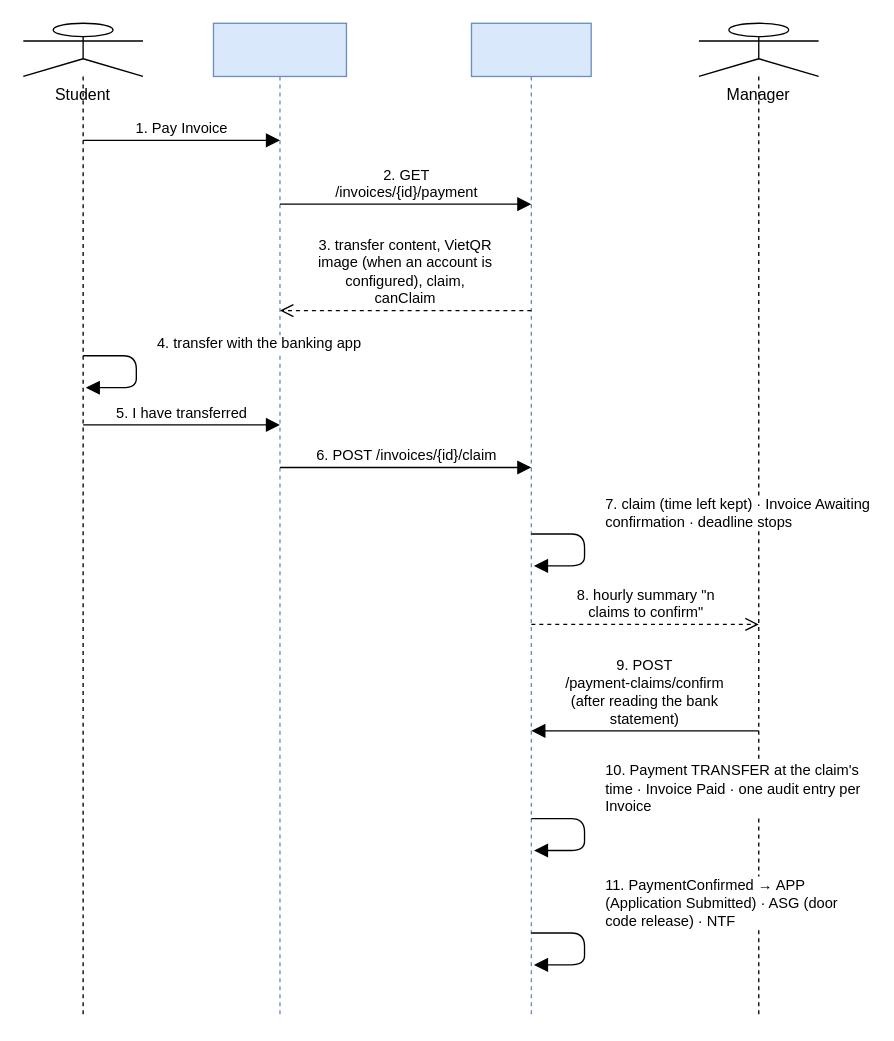
This 894x1041 diagram has some shape labels left out. The shapes that lost their labels are listed below. From the top down, each one's box as (x1, y1, x2, y2) in pixels, then its label:
(212, 22, 346, 1018): Web / Android
(470, 22, 591, 1018): BIL
